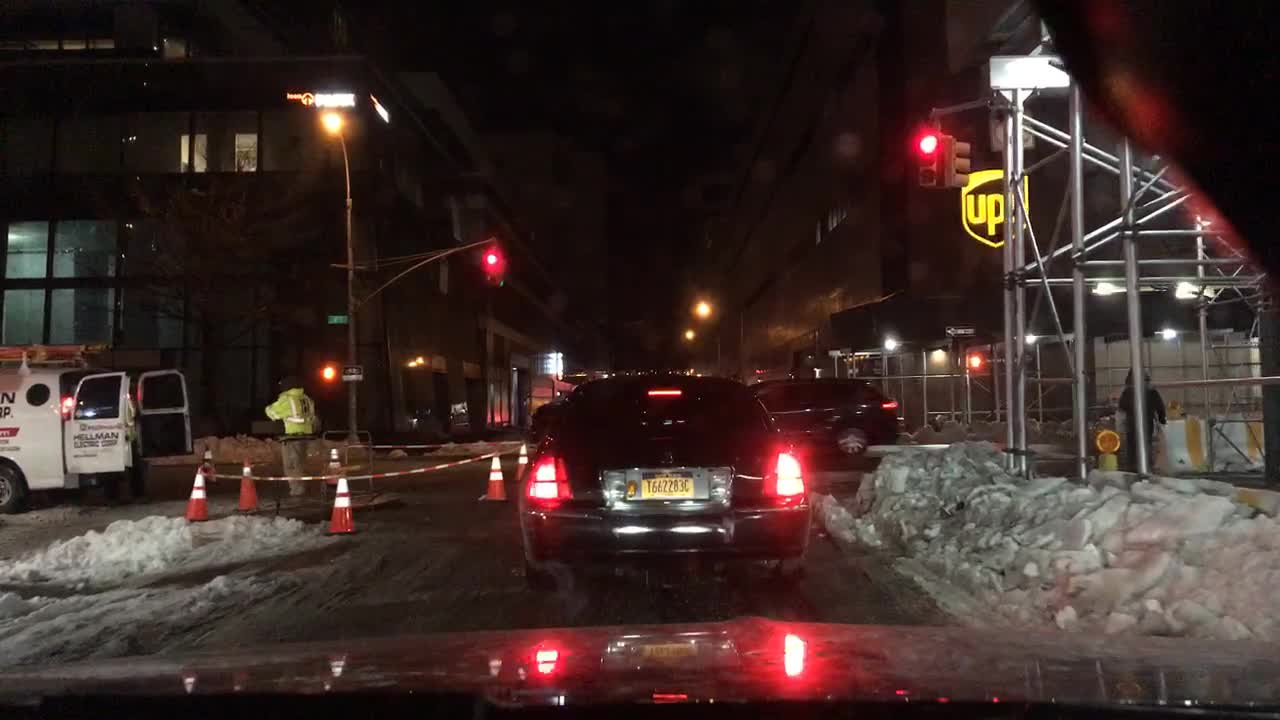car: (519, 371, 807, 586), (749, 378, 897, 489), (526, 399, 561, 441)
person: (258, 374, 320, 508), (99, 391, 152, 504), (1117, 366, 1166, 476)
traffic light: (914, 126, 938, 187), (948, 135, 968, 184), (317, 359, 337, 381), (484, 251, 498, 280), (494, 248, 503, 287), (967, 353, 982, 371)
traffic sign: (994, 104, 1031, 148), (341, 361, 363, 381), (943, 324, 973, 336), (324, 312, 346, 326)
truck: (0, 341, 192, 511)
